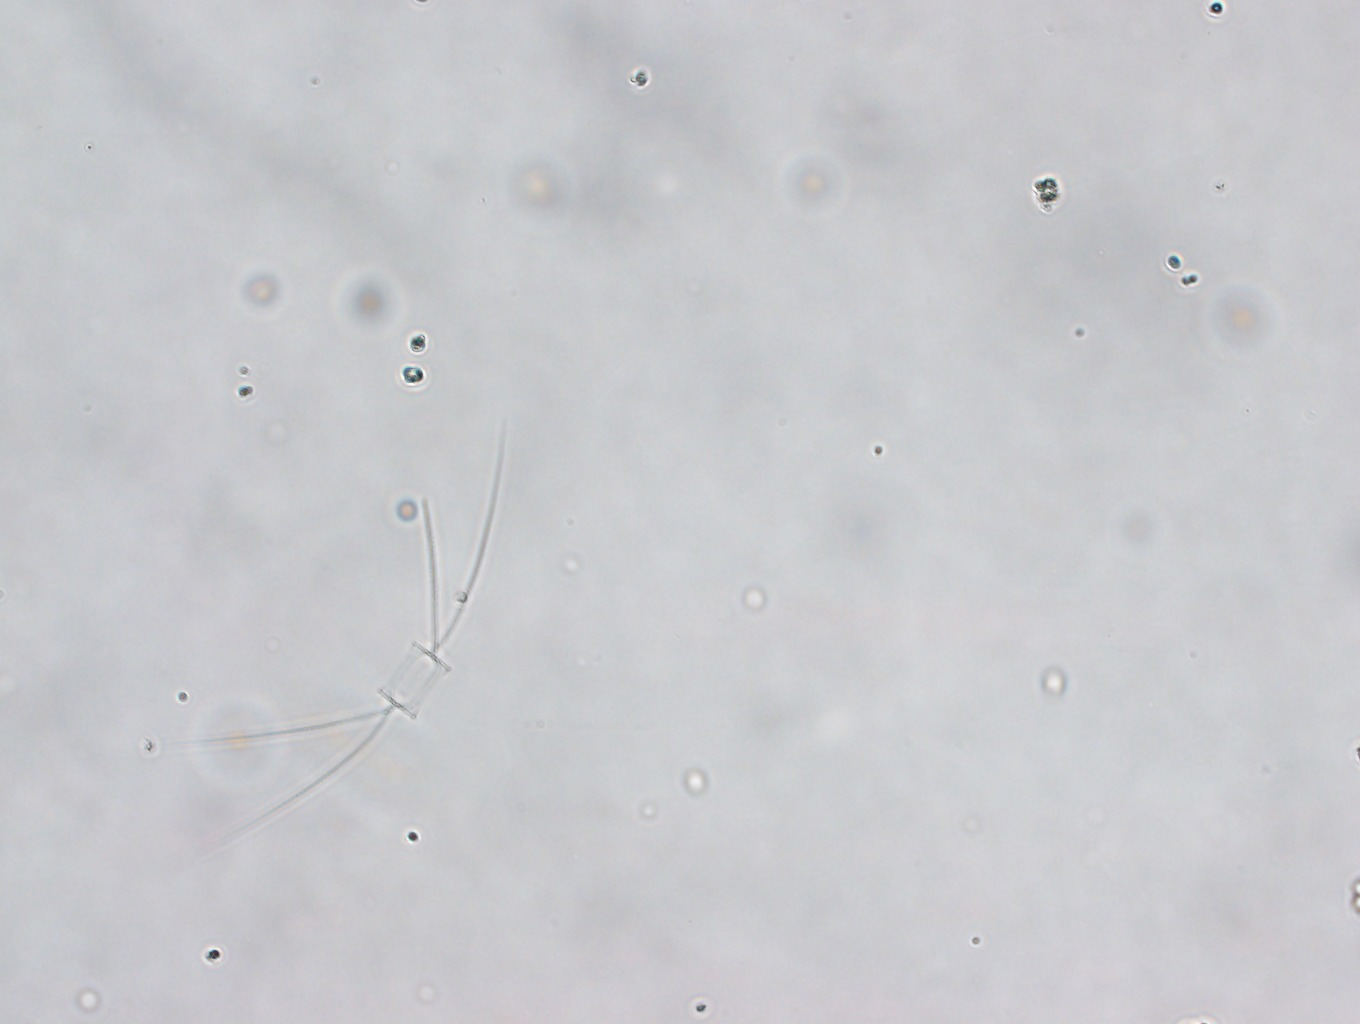chaetoceros: (177, 406, 503, 861)
